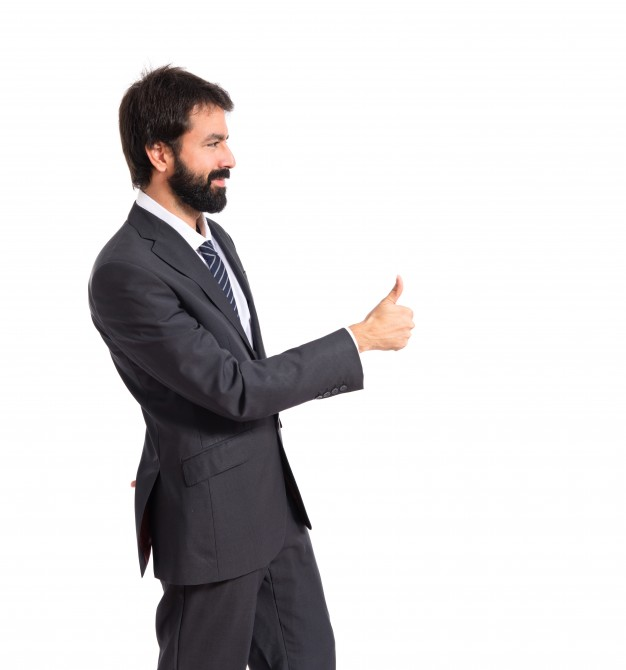thumbsup: (380, 274, 415, 351)
